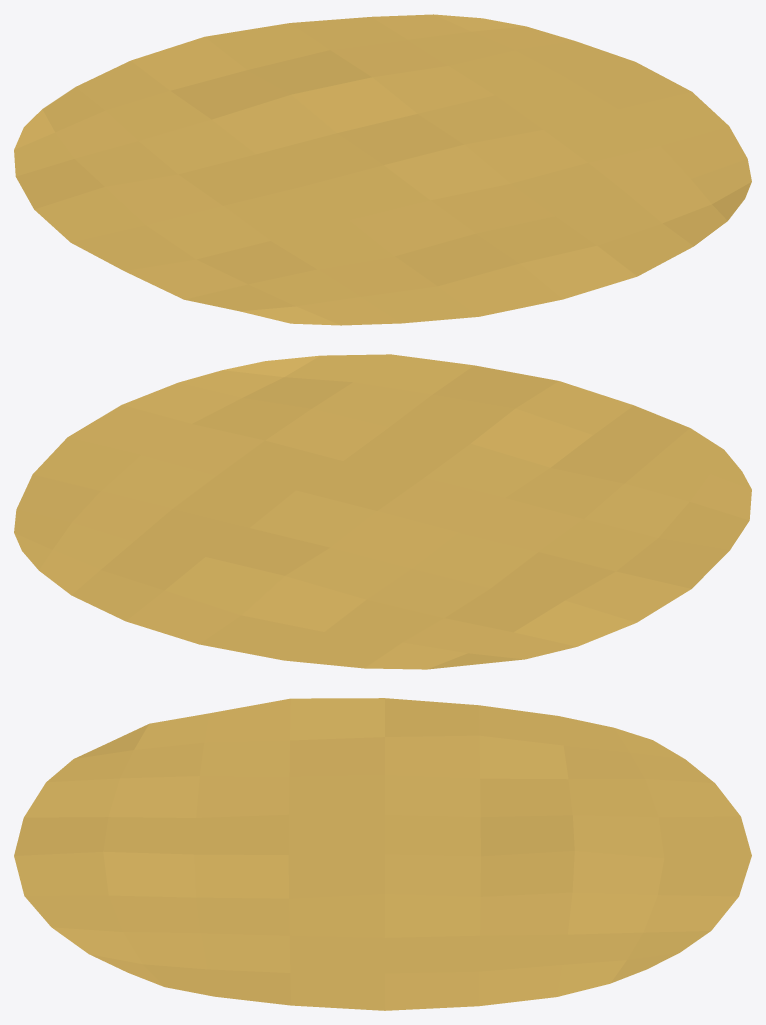
The model's file is jam1.fbx.
3 renders of one model, top to bottom at view 1: azimuth 30°, elevation 25°; view 2: azimuth 150°, elevation 25°; view 3: azimuth 270°, elevation 25°, orthographic. The views are drawn at different scales.
Visible parts, largest first — view 1: Plane; view 2: Plane; view 3: Plane.
Boxes of the visible parts, x1,y1,x2,y2 form: Plane: (14,14,751,325); Plane: (14,354,751,669); Plane: (14,698,751,1010).
Bounding box in the file's own units: 173 × 173 × 1.99.
